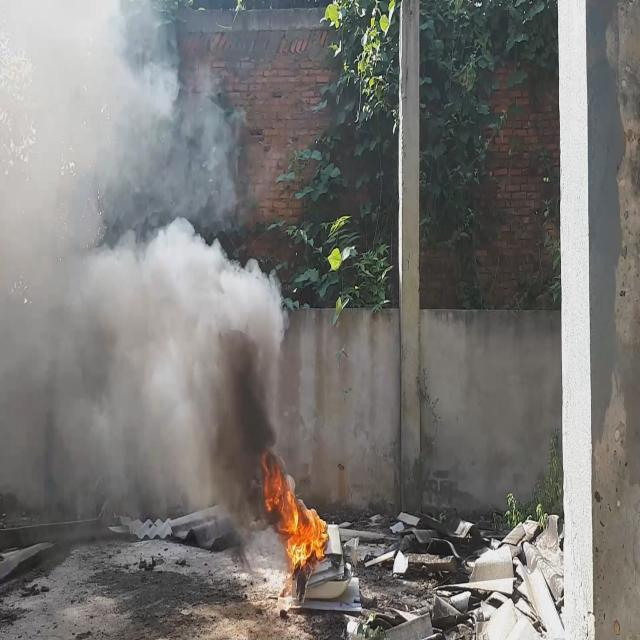Fire: (255, 436, 330, 574)
Smoke: (0, 0, 286, 536)
